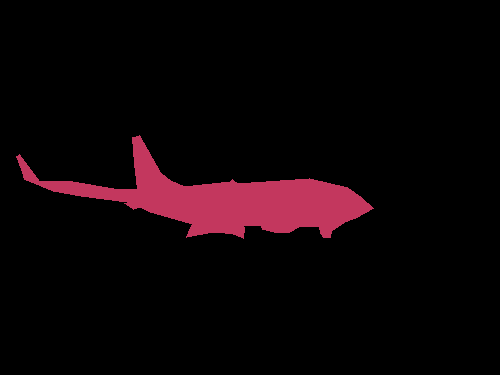Airplane: (16, 135, 374, 239)
